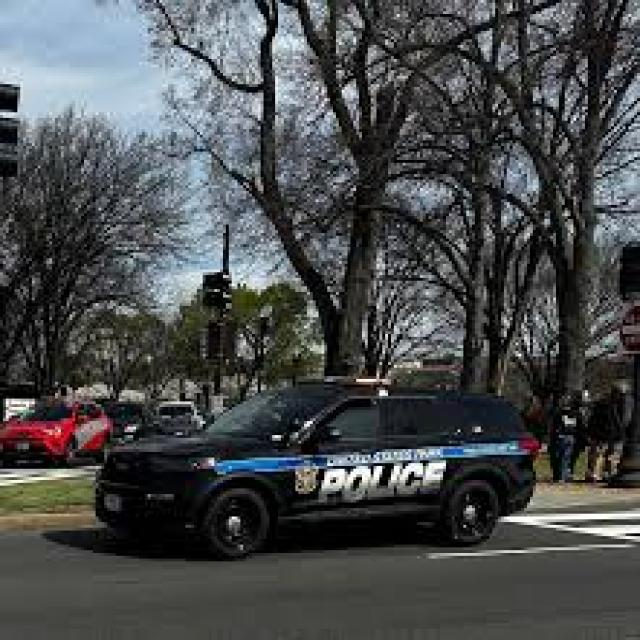cop: (86, 376, 540, 573)
